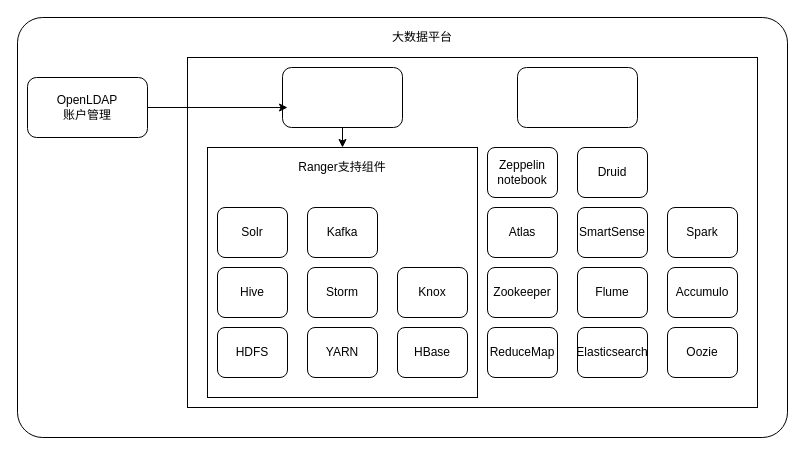
This 805x455 diagram has some shape labels left out. Each missing label, with the centre of its shape:
"Ambari 管理组件" goes at point 577,97.
"Ranger 审计" goes at point 342,97.
